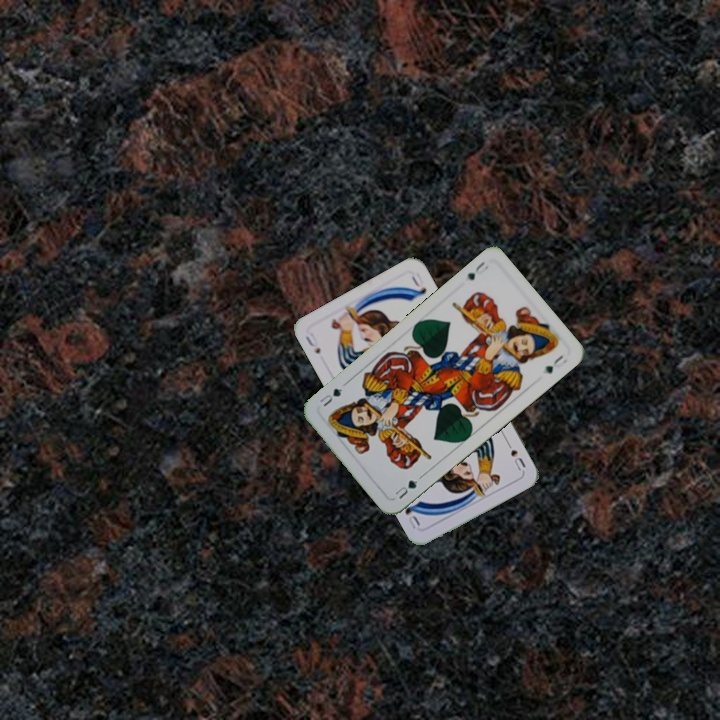GU: (391, 476, 420, 502), (462, 257, 491, 283)
SU: (501, 435, 528, 473), (301, 329, 323, 357)
